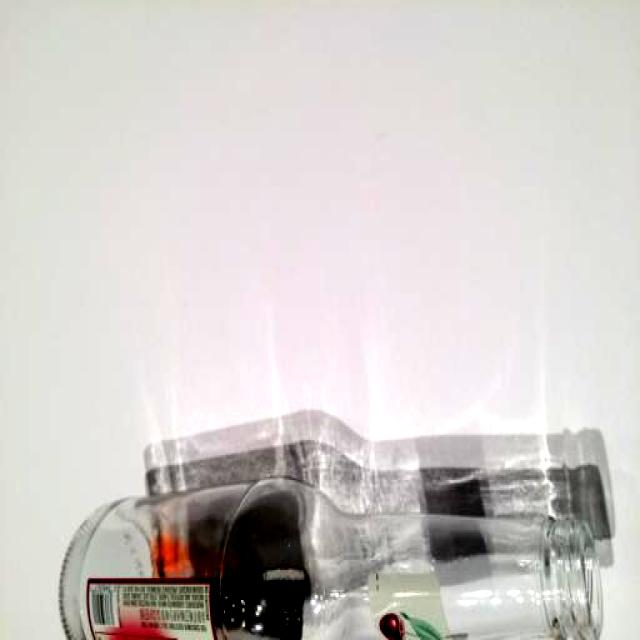Glass: (52, 477, 607, 640)
